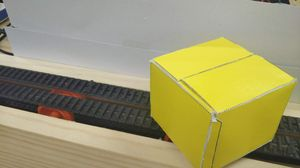box4: (146, 35, 296, 168)
